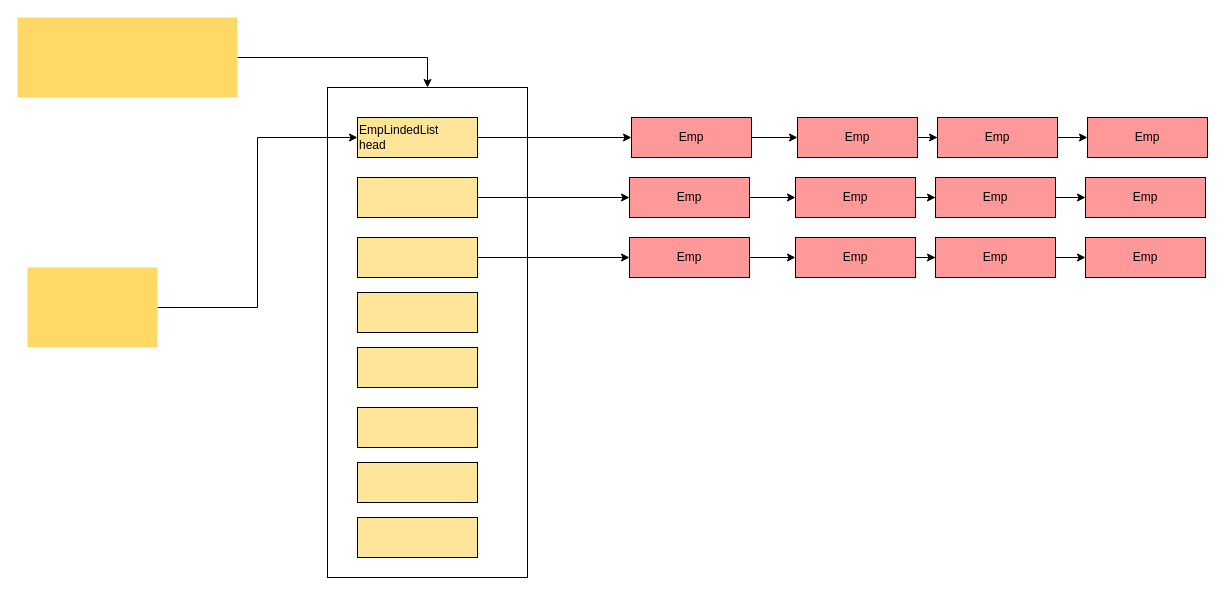
Image size: 1225x595. Some labels were removed from this diagram. The shapes that lost their labels are listed below. From the top down, each one's centre as x and y in pixels, then its label:
At [127,57]: "Class HashTable{ EmpLinkedList[] empLinkedListArr }".
At [92,307]: "Class EmpLinkedList{ Emp head = null }".
